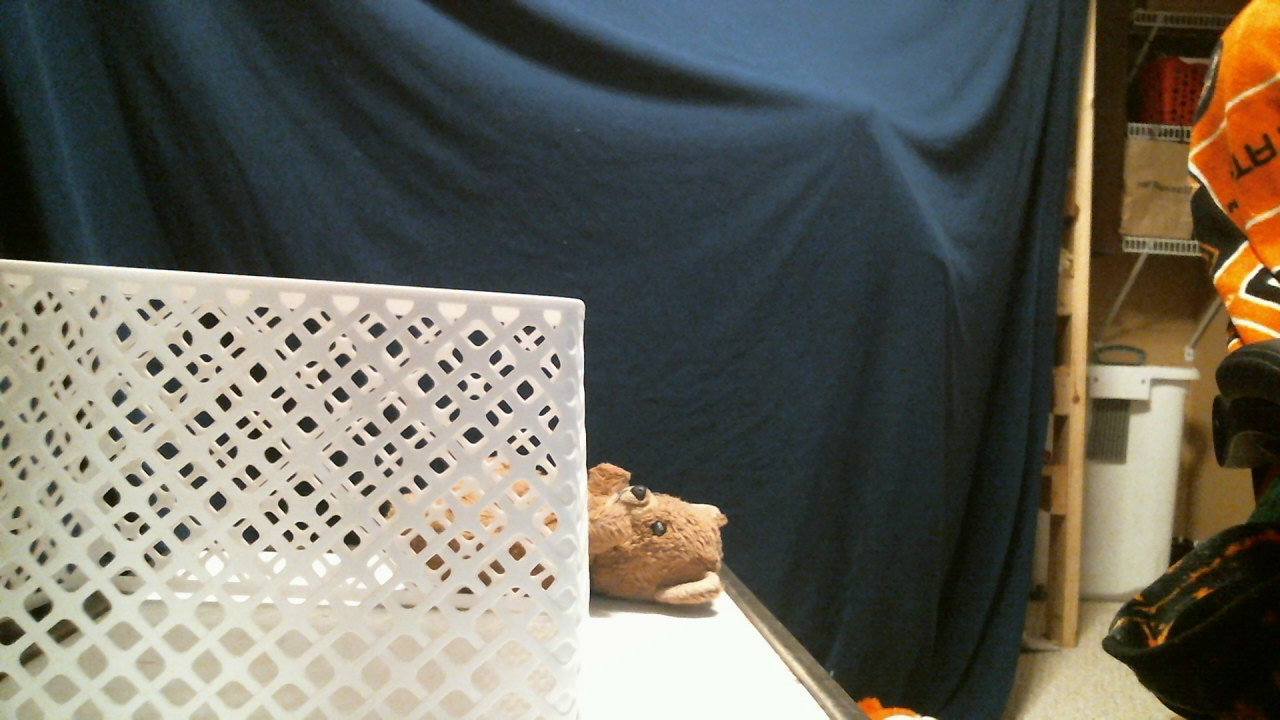Little_Mister_Bear: (606, 490, 716, 556)
